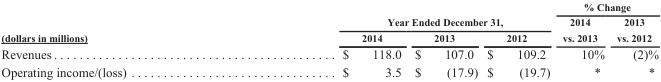table: (0, 0, 658, 79)
table column: (0, 0, 233, 79), (233, 0, 407, 79), (407, 0, 481, 79), (481, 0, 555, 79), (555, 0, 609, 79), (609, 0, 658, 79)
table column header: (0, 0, 658, 29)
table row: (0, 44, 658, 62), (0, 62, 658, 79), (0, 14, 658, 29), (0, 29, 658, 44), (0, 0, 658, 14)
table spanning cell: (233, 0, 555, 29), (555, 0, 658, 14)
